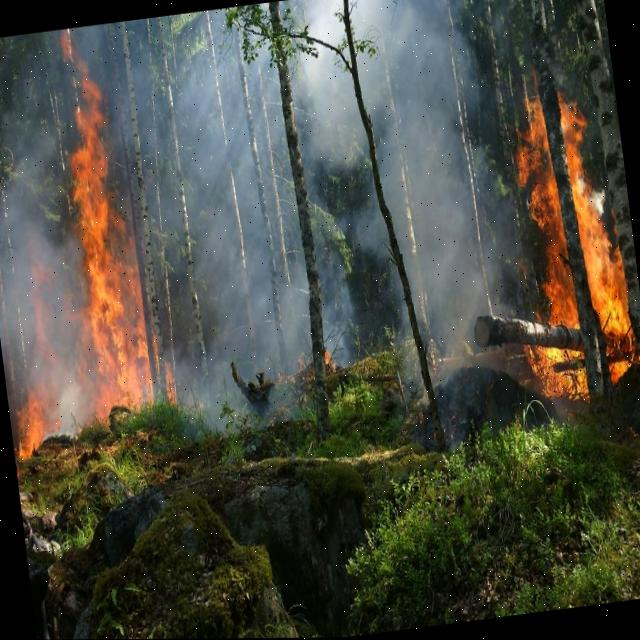fire: (511, 96, 635, 395), (68, 80, 159, 415)
smoke: (72, 0, 519, 451), (0, 30, 94, 422)
